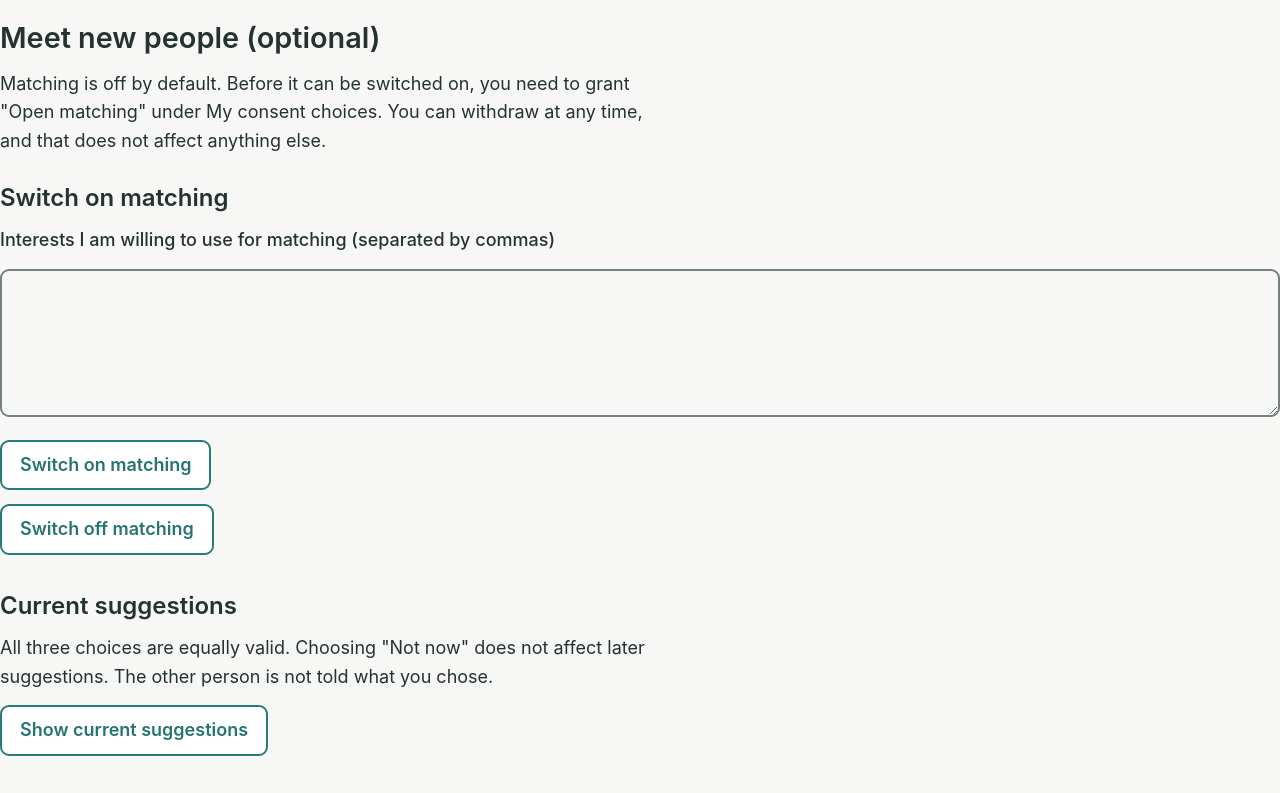
MatchingPanel (opt-in matching over API lists, ADR-036) › candidates come from the API; a decision is version-bound, confirmed, and private
Click the button "Show current suggestions": (134, 731) [0,705,268,756]
(page scrolled)
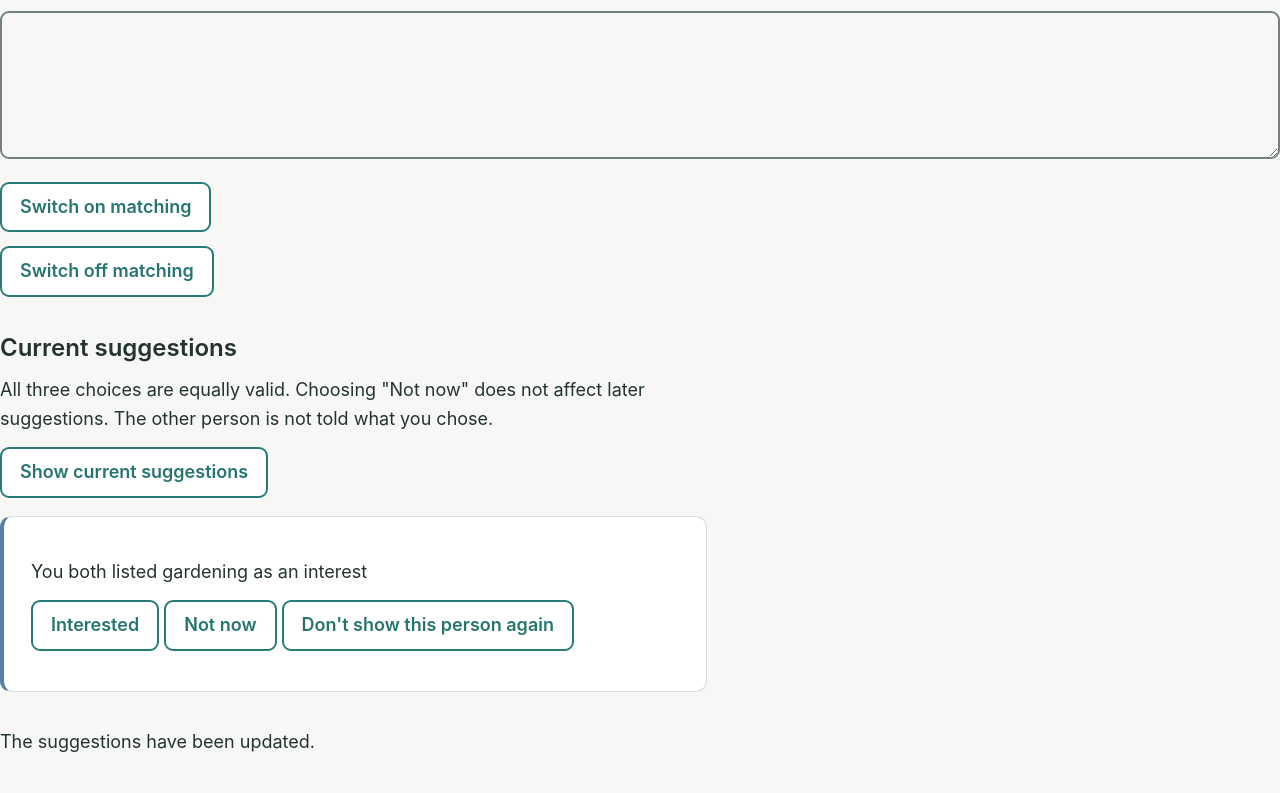
Check: the text "You both listed gardening as an interest" is shown, box [31,560,367,582]
Click the button "Interested": (95, 625) [31,600,159,651]
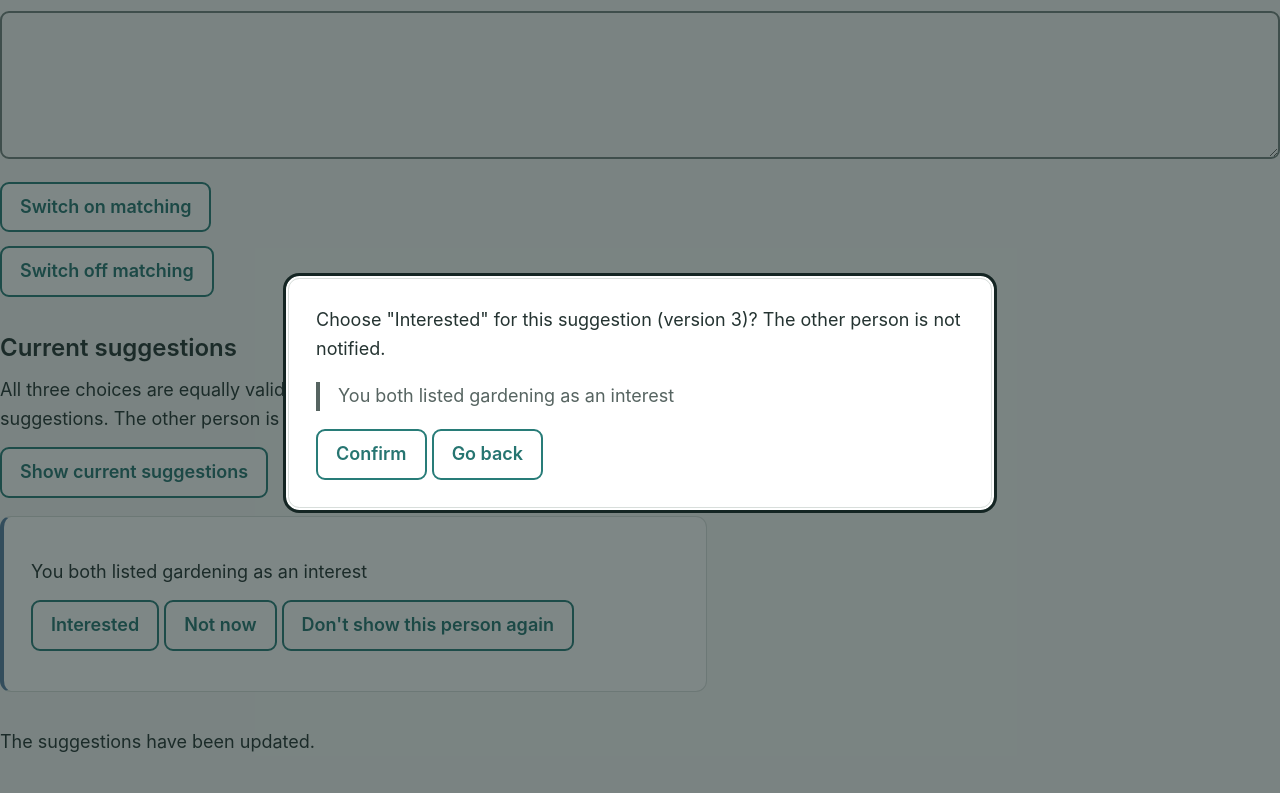
Check: the dialog shows "3", box [731,309,742,330]
Click the button "Confirm": (371, 454) [316,429,427,480]
(page scrolled)
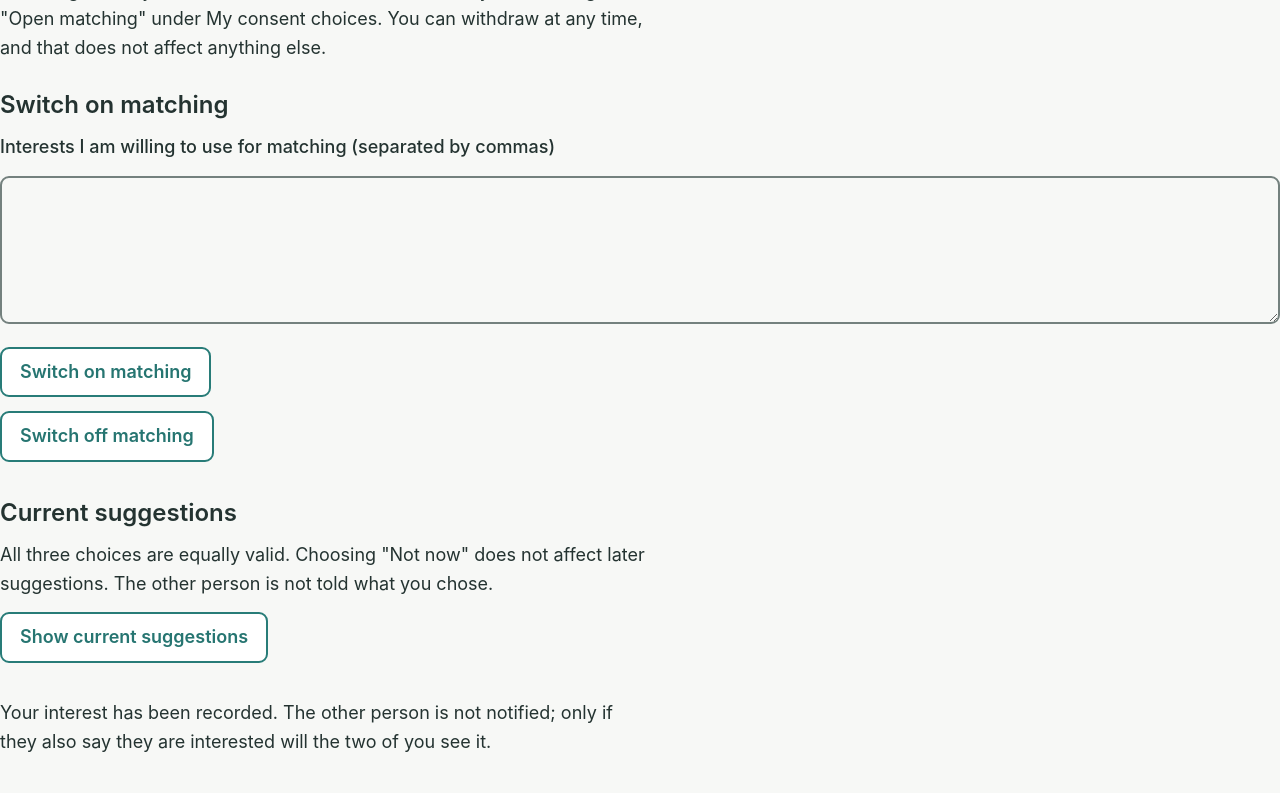
Check: the message shows "not notified", box [0,702,613,752]
